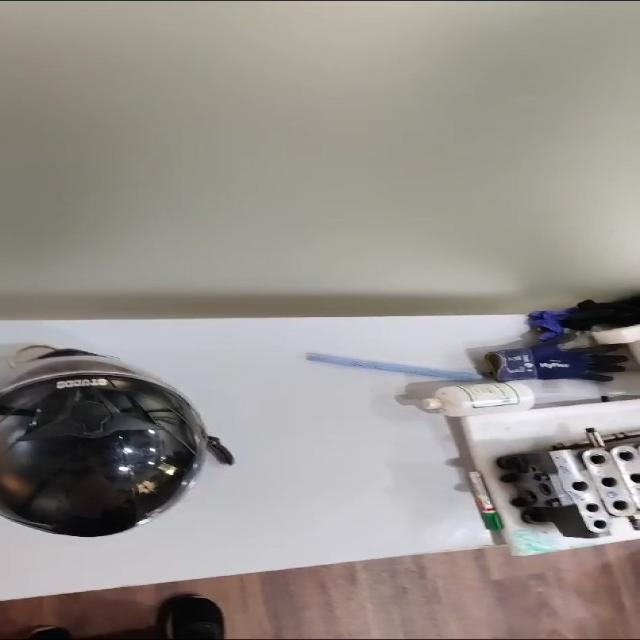helmet: (0, 345, 232, 536)
